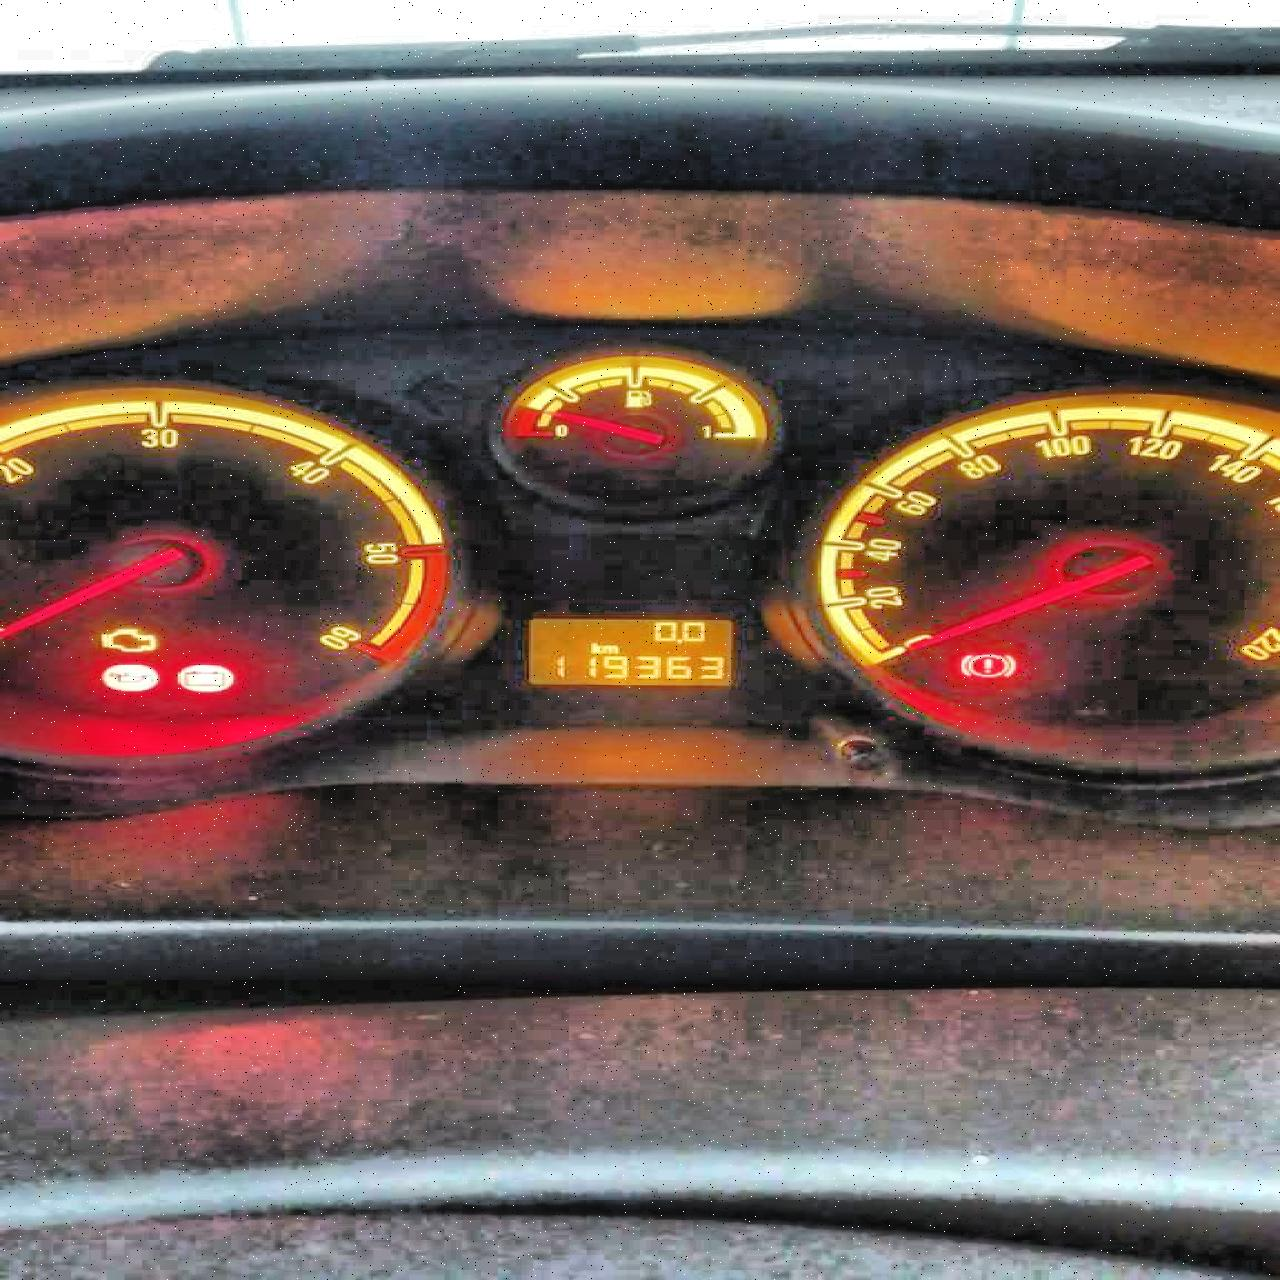-: (674, 636, 682, 644)
0: (680, 619, 707, 641), (652, 620, 678, 641)
1: (551, 652, 567, 679), (585, 655, 595, 679)
3: (631, 654, 660, 680), (696, 654, 722, 679)
6: (662, 654, 692, 679)
9: (600, 654, 627, 679)
X: (600, 644, 620, 654), (587, 640, 600, 654)
odometer: (524, 613, 740, 688)
